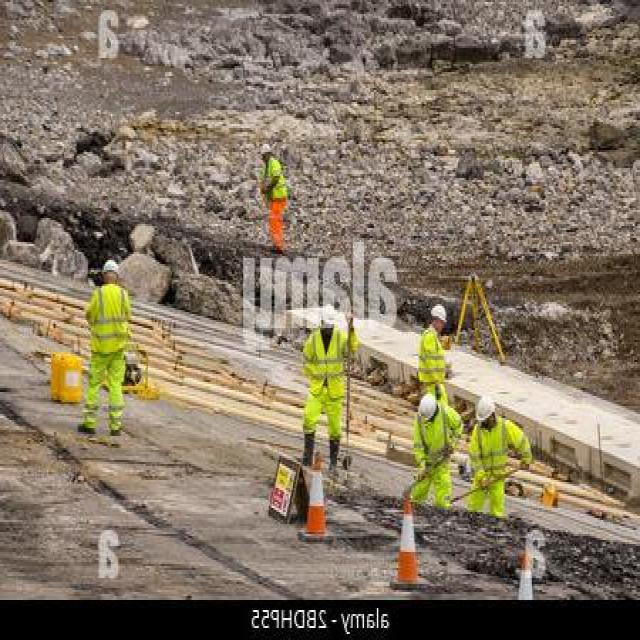Reflective-Jacket: (298, 322, 352, 426), (466, 418, 516, 518), (87, 282, 135, 360), (414, 326, 449, 386)
Safety-Helmet: (473, 388, 498, 424), (416, 390, 440, 420), (428, 300, 450, 324), (100, 254, 122, 276)
